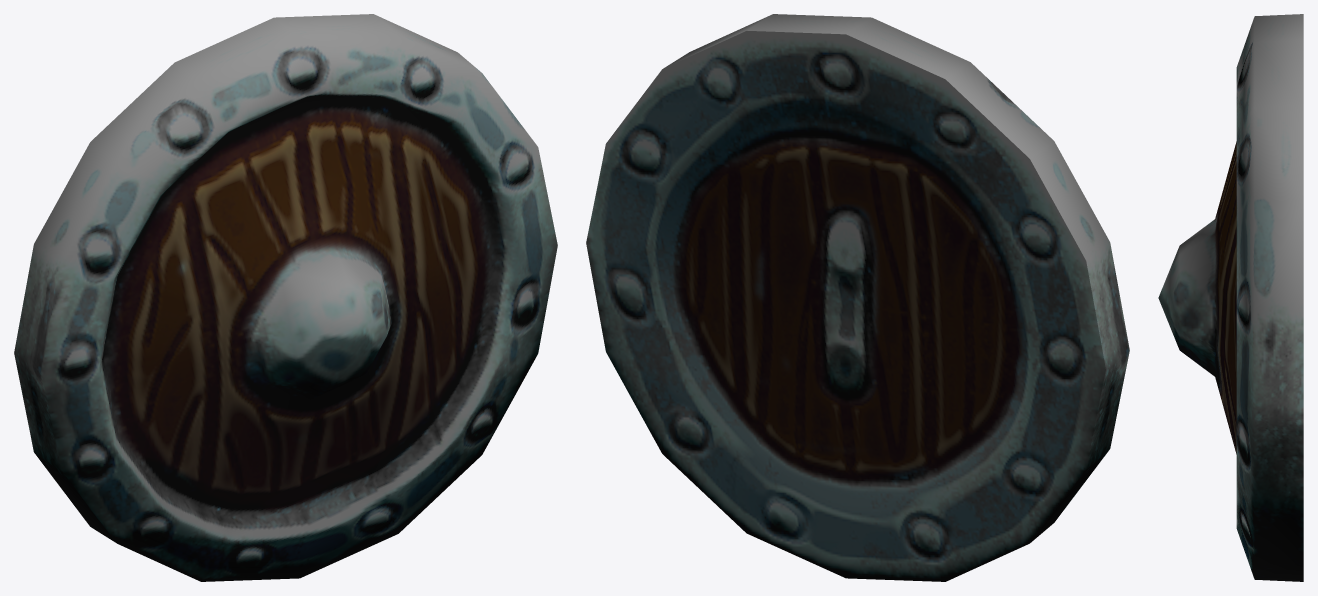
The model's file is shield_2.fbx.
3 views of the same model, side by side, from view 1: azimuth 30°, elevation 25°; view 2: azimuth 150°, elevation 25°; view 3: azimuth 270°, elevation 25° (orthographic). The views are drawn at different scales.
Visible parts, largest first — view 1: shield_2; view 2: shield_2; view 3: shield_2.
Part boxes in pixels (x1=…): shield_2: x1=14, y1=14, x2=557, y2=581; shield_2: x1=586, y1=14, x2=1129, y2=581; shield_2: x1=1158, y1=14, x2=1303, y2=581.
Size of the model in its own units: 1.01 by 1.01 by 0.2589.
